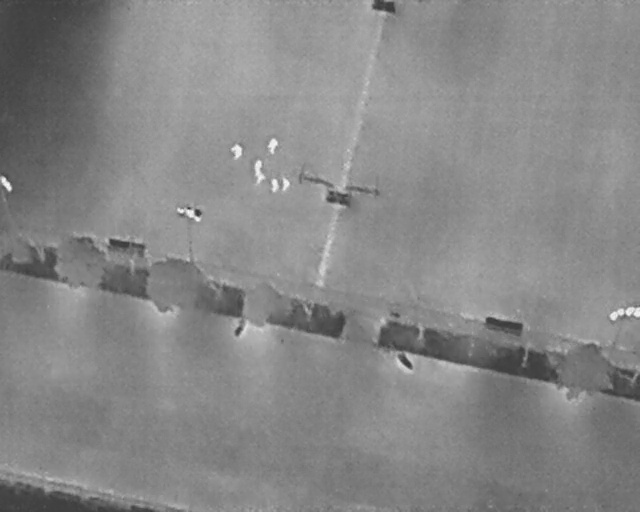Person: (231, 143, 242, 160), (267, 138, 278, 155), (255, 171, 266, 186), (254, 159, 263, 176), (270, 178, 280, 193), (281, 176, 290, 192)
